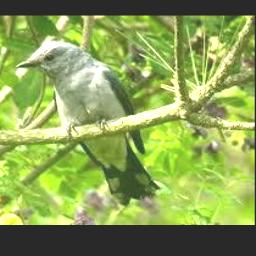Cuckoo: (16, 42, 160, 205)
